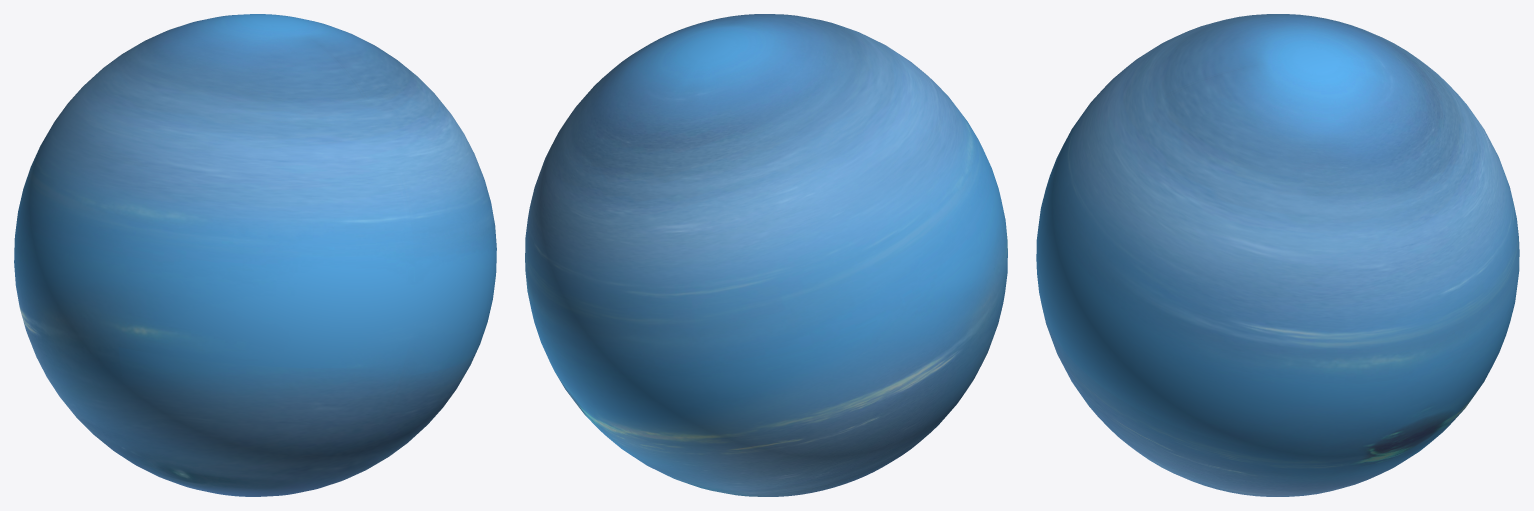
Rendered from uranus.fbx.
3 renders of one model, left to right at view 1: azimuth 30°, elevation 25°; view 2: azimuth 150°, elevation 25°; view 3: azimuth 270°, elevation 25°, orthographic.
Visible parts, largest first — view 1: Sphere; view 2: Sphere; view 3: Sphere.
Part boxes in pixels (left/top/right/bottom): Sphere: left=14, top=14, right=496, bottom=496; Sphere: left=525, top=14, right=1007, bottom=496; Sphere: left=1036, top=14, right=1519, bottom=496.
Bounding box in the file's own units: 200 × 200 × 200.
